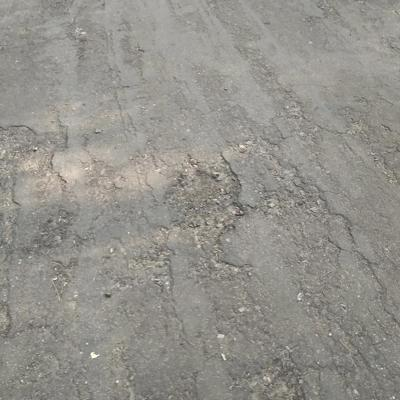pothole: (158, 159, 246, 245), (231, 359, 306, 399), (0, 119, 54, 172)
